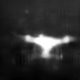plane: (22, 32, 78, 62)
